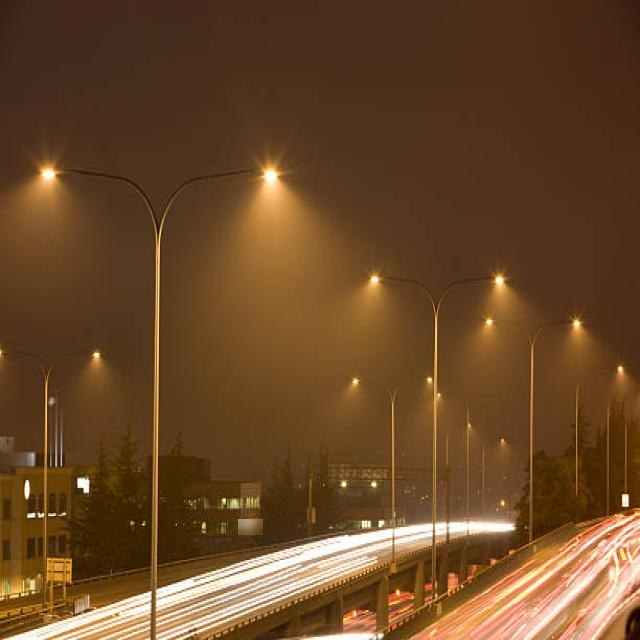acesa: (212, 142, 326, 248), (26, 148, 68, 200), (82, 336, 117, 378), (358, 261, 388, 301), (486, 264, 514, 296), (346, 367, 368, 400), (476, 306, 498, 332), (564, 312, 589, 333)
